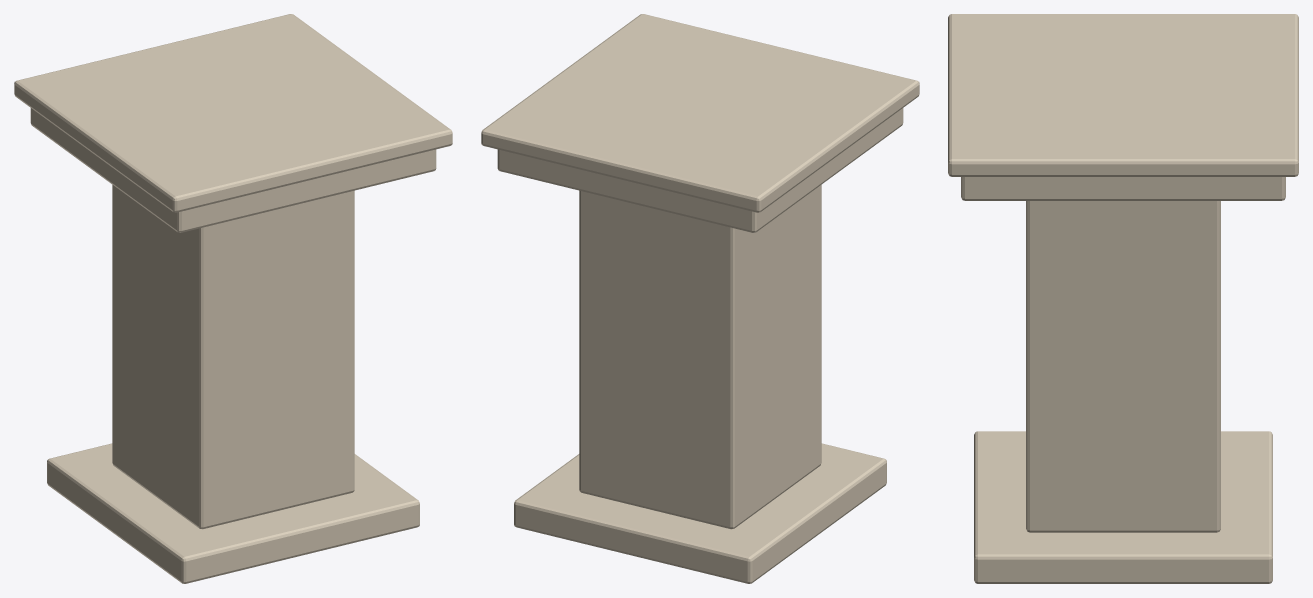
The model's file is plinth.glb.
3 views of the same model, side by side, from view 1: azimuth 30°, elevation 25°; view 2: azimuth 150°, elevation 25°; view 3: azimuth 270°, elevation 25° (orthographic). The views are drawn at different scales.
Visible parts, largest first — view 1: lumen_plinth; view 2: lumen_plinth; view 3: lumen_plinth.
Part boxes in pixels (<box>): lumen_plinth: <box>14,14,452,583</box>; lumen_plinth: <box>481,14,919,583</box>; lumen_plinth: <box>948,14,1298,583</box>.
Bounding box in the file's own units: 0.54 × 0.74 × 0.54.
